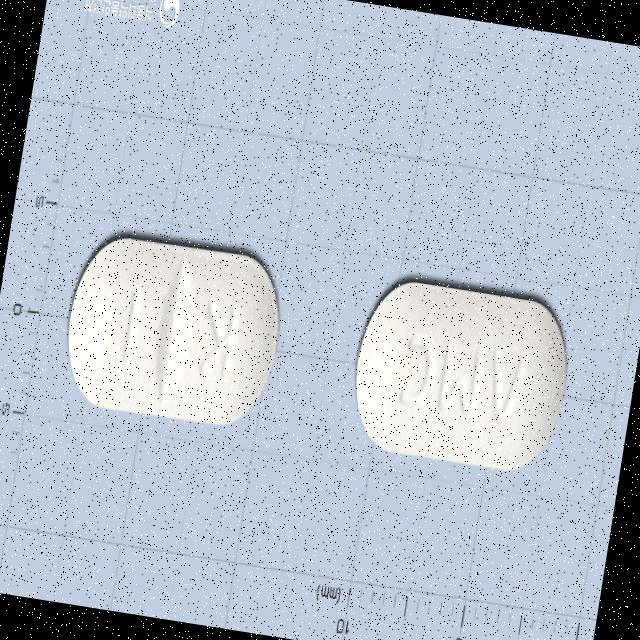Amocla Duo: (342, 266, 580, 482), (55, 225, 292, 436)
